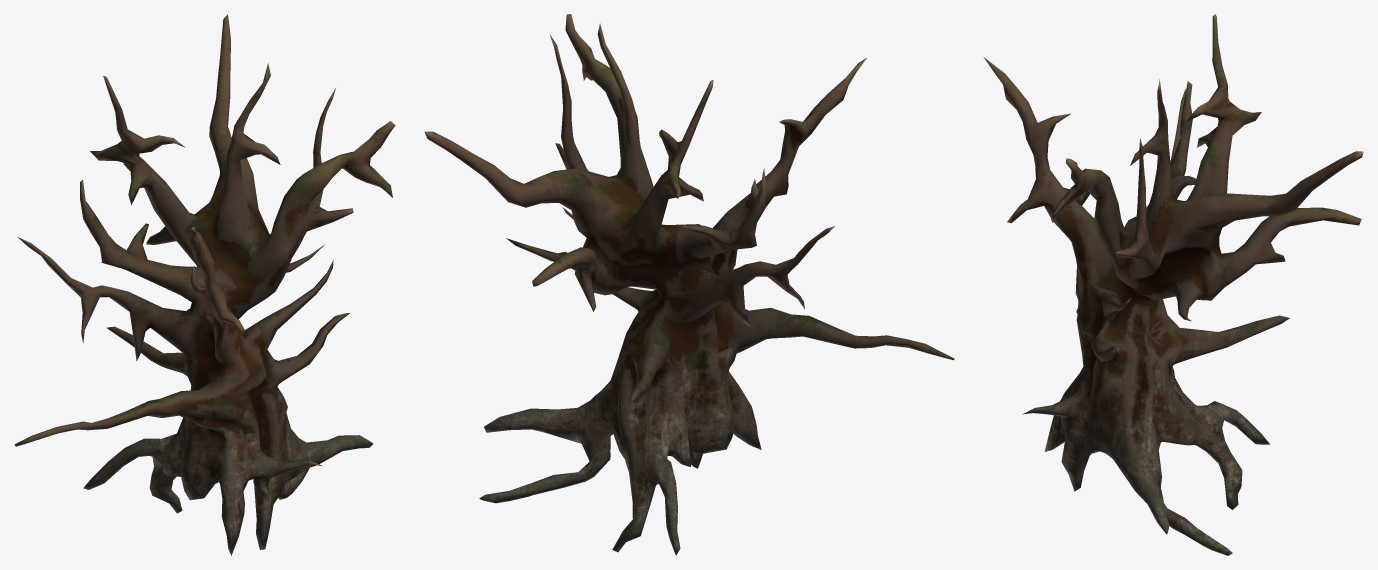
The model's file is Fantasy_Tree.fbx.
3 renders of one model, left to right at view 1: azimuth 30°, elevation 25°; view 2: azimuth 150°, elevation 25°; view 3: azimuth 270°, elevation 25°, orthographic. The views are drawn at different scales.
Parts seen in each view (by area): view 1: Fantasy_Tree_LOD0; view 2: Fantasy_Tree_LOD0; view 3: Fantasy_Tree_LOD0.
Boxes of the visible parts, bbox=[...] form: Fantasy_Tree_LOD0: bbox=[14, 14, 395, 555]; Fantasy_Tree_LOD0: bbox=[424, 14, 954, 555]; Fantasy_Tree_LOD0: bbox=[983, 14, 1363, 555].
Size of what is drawn, in the model's own units: 2240 by 2462 by 1861.
